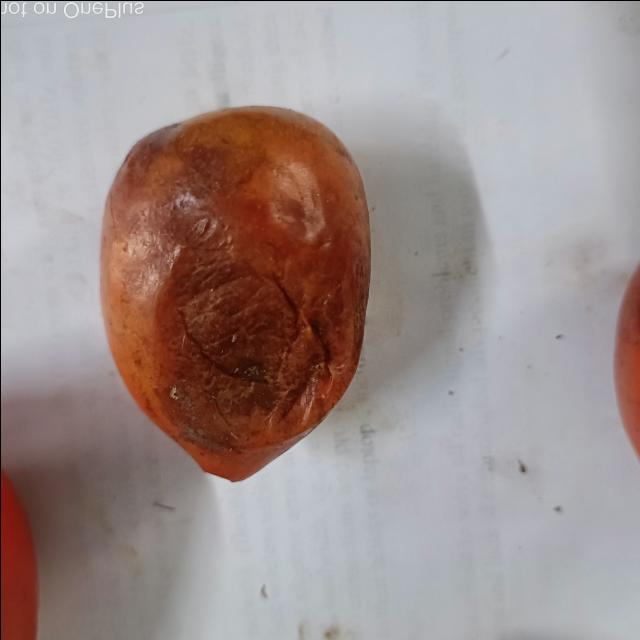Botrytis: (170, 256, 333, 444)
